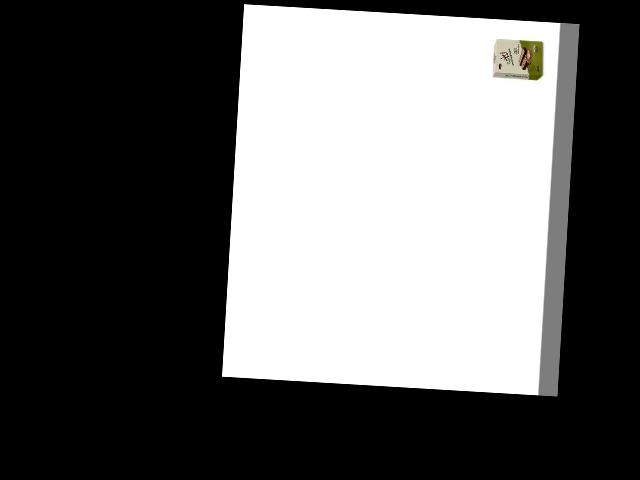chocolate: (491, 34, 546, 83)
